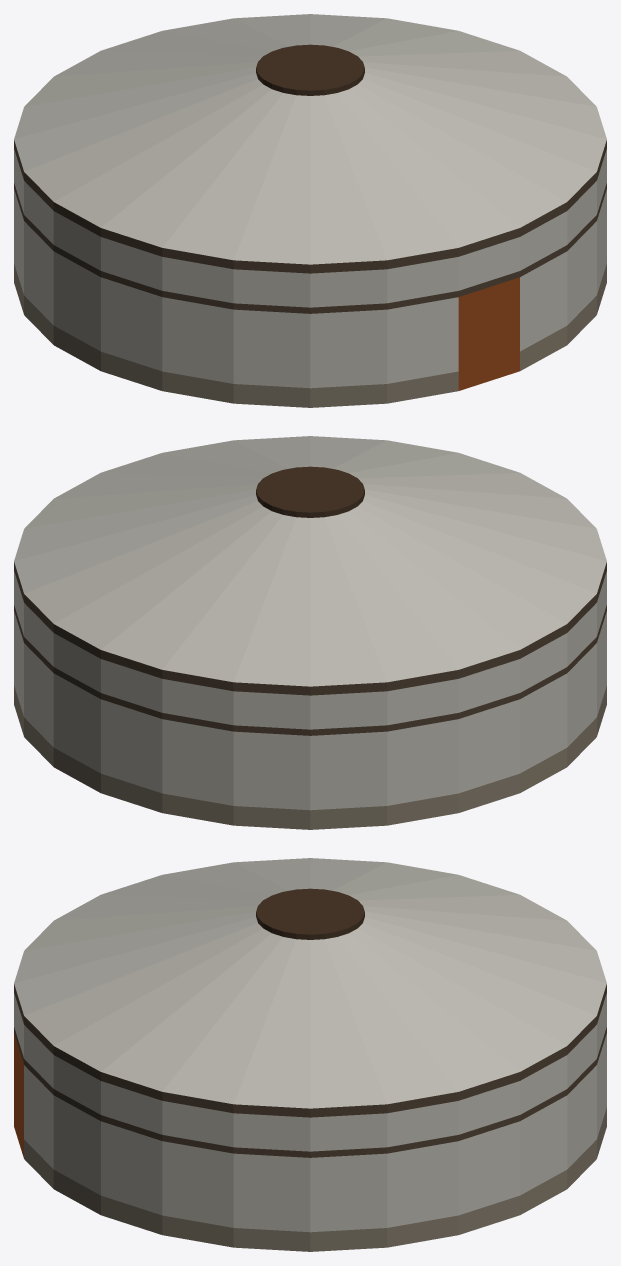
File: ger.glb
3 renders of one model, top to bottom at view 1: azimuth 30°, elevation 25°; view 2: azimuth 150°, elevation 25°; view 3: azimuth 270°, elevation 25°, orthographic.
Visible parts, largest first — view 1: ger; view 2: ger; view 3: ger.
Part boxes in pixels (x1,y1,x2,y2): ger: (14, 14, 606, 407); ger: (14, 436, 606, 829); ger: (14, 858, 606, 1251).
Size of the model in its own units: 6 by 2.4 by 6.
